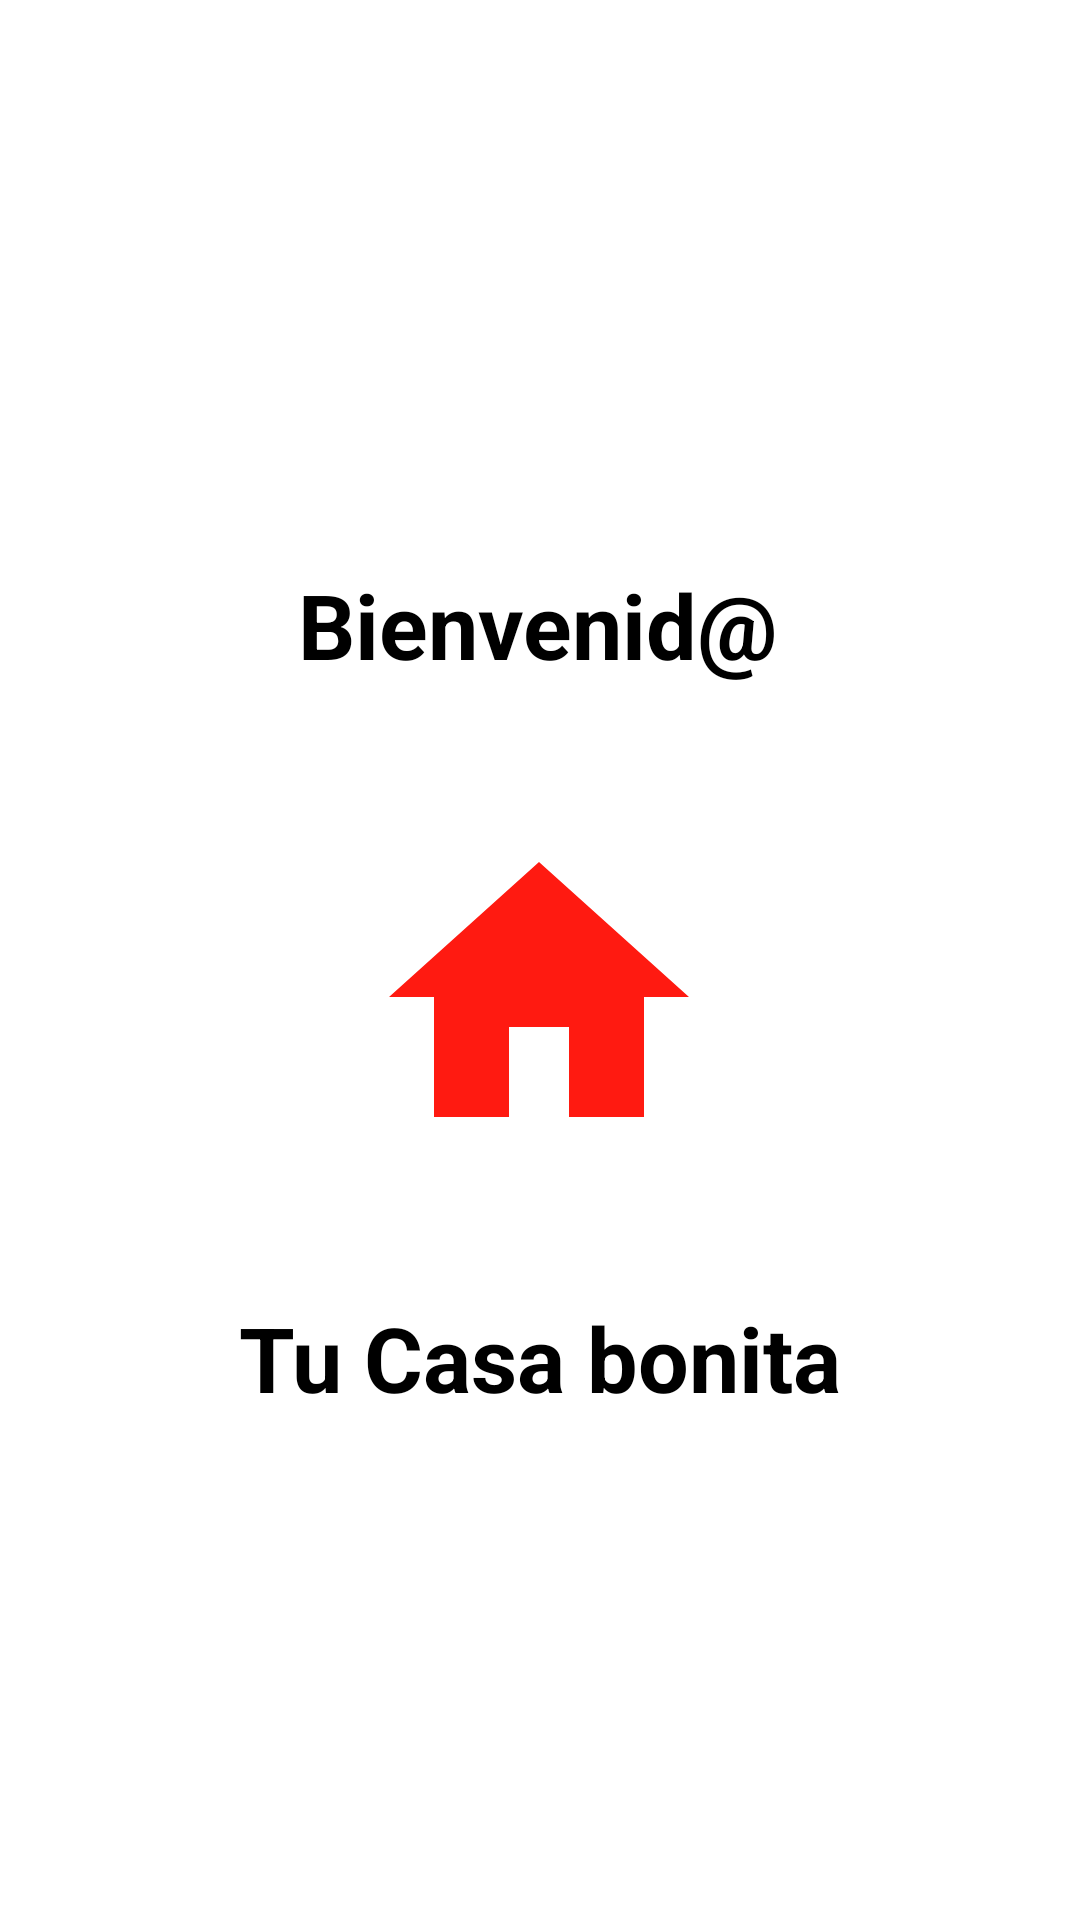

Icons on this 1080*1920 Android screen, each with its box as (x1, y1, x2, y2):
home: (389, 862, 689, 1117)
